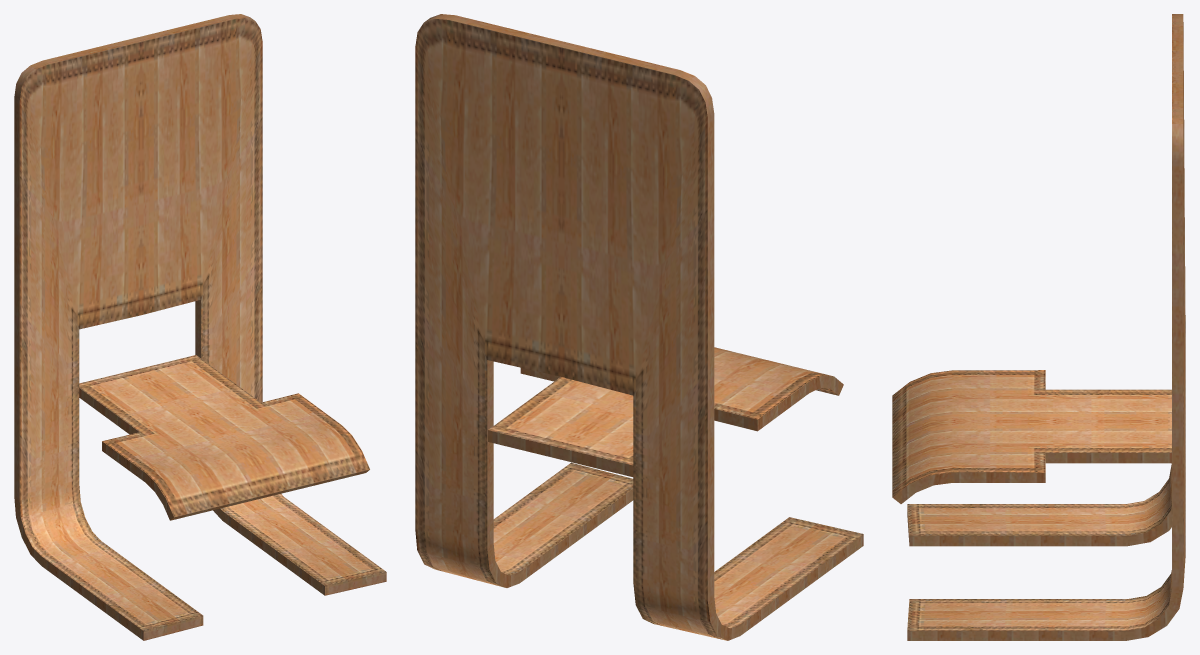
File: frn_all_chair_wooden_s1_l0.fbx
3 renders of one model, left to right at view 1: azimuth 30°, elevation 25°; view 2: azimuth 150°, elevation 25°; view 3: azimuth 270°, elevation 25°, orthographic. The views are drawn at different scales.
Parts seen in each view (by area): view 1: mesh_node; view 2: mesh_node; view 3: mesh_node.
Boxes of the visible parts, bbox=[...] form: mesh_node: bbox=[14, 14, 386, 640]; mesh_node: bbox=[415, 14, 863, 640]; mesh_node: bbox=[892, 14, 1185, 640].
Size of the model in its own units: 0.6514 by 1.22 by 0.6369.
1 material, 1 textured.
